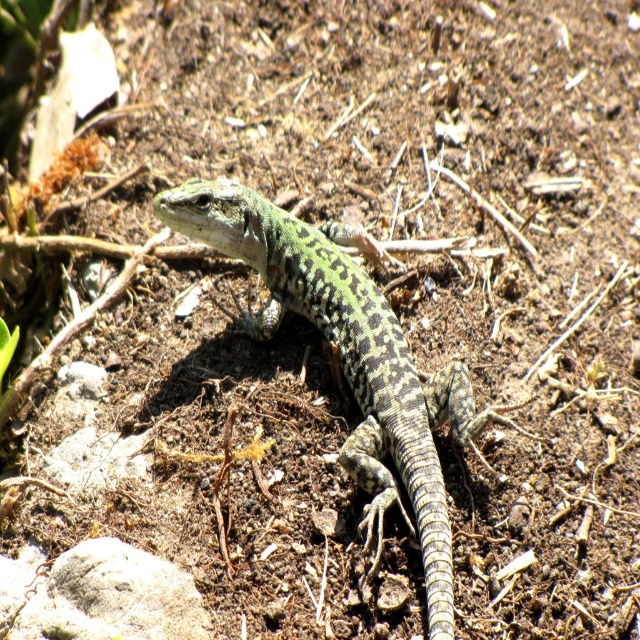Lizard: (155, 178, 554, 636)
